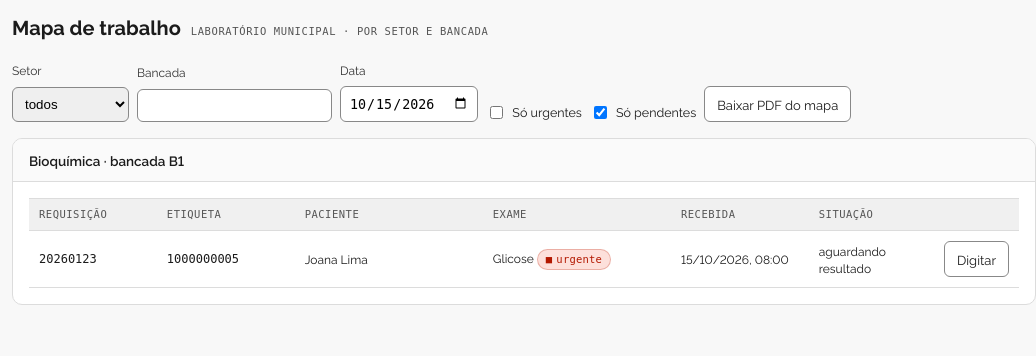
Scenario: LabWorklist › falha do PDF mostra a mensagem
Expected: the element "Bioquímica · bancada B1" is shown, x1=12 y1=138 x2=1035 y2=305
Step 1. Click the button "Baixar PDF do mapa" → [778, 104], box x1=704 y1=86 x2=851 y2=122
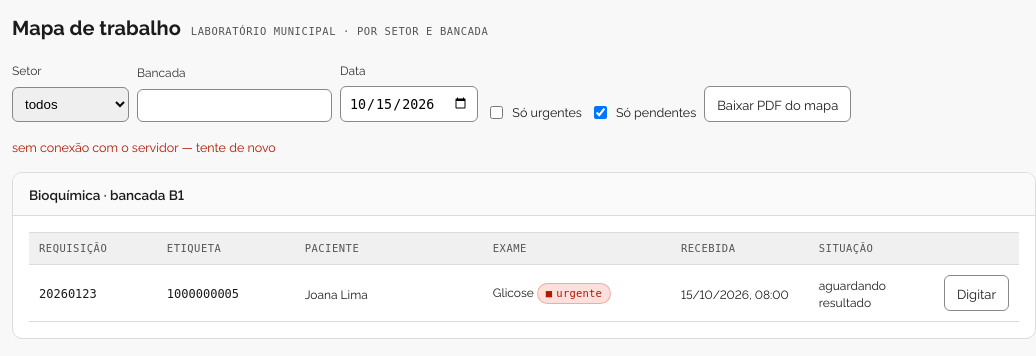
Expected: the message "sem conexão com o servidor — tente de novo" is shown, x1=12 y1=138 x2=276 y2=155
